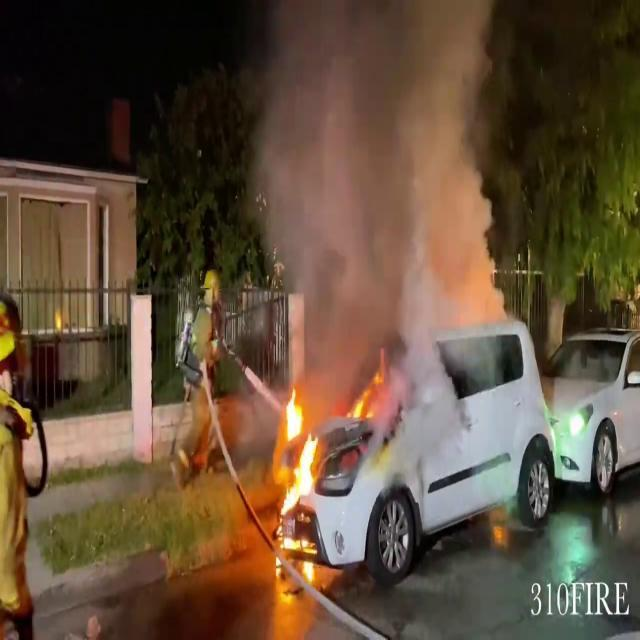Fire: (272, 380, 322, 546)
Smoke: (244, 0, 517, 373)
